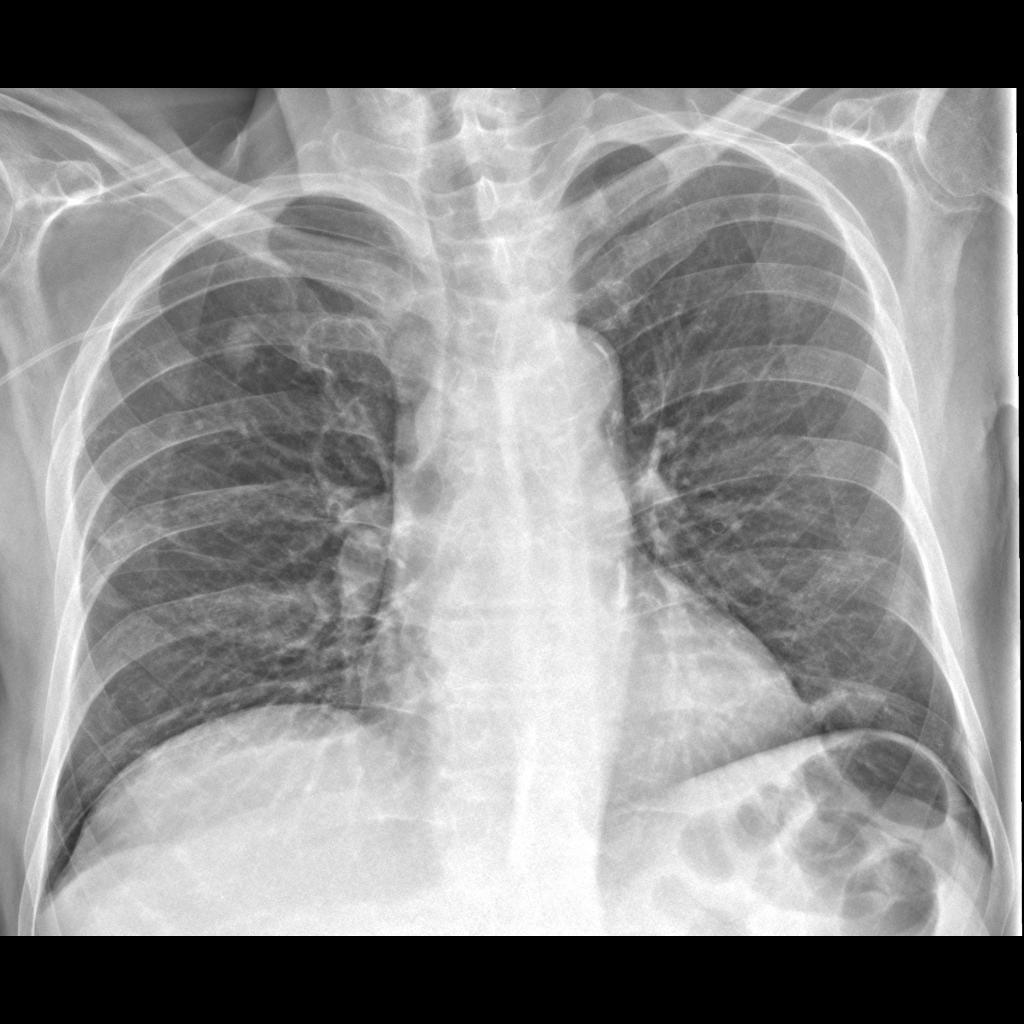Nodule: (217, 313, 261, 376)
